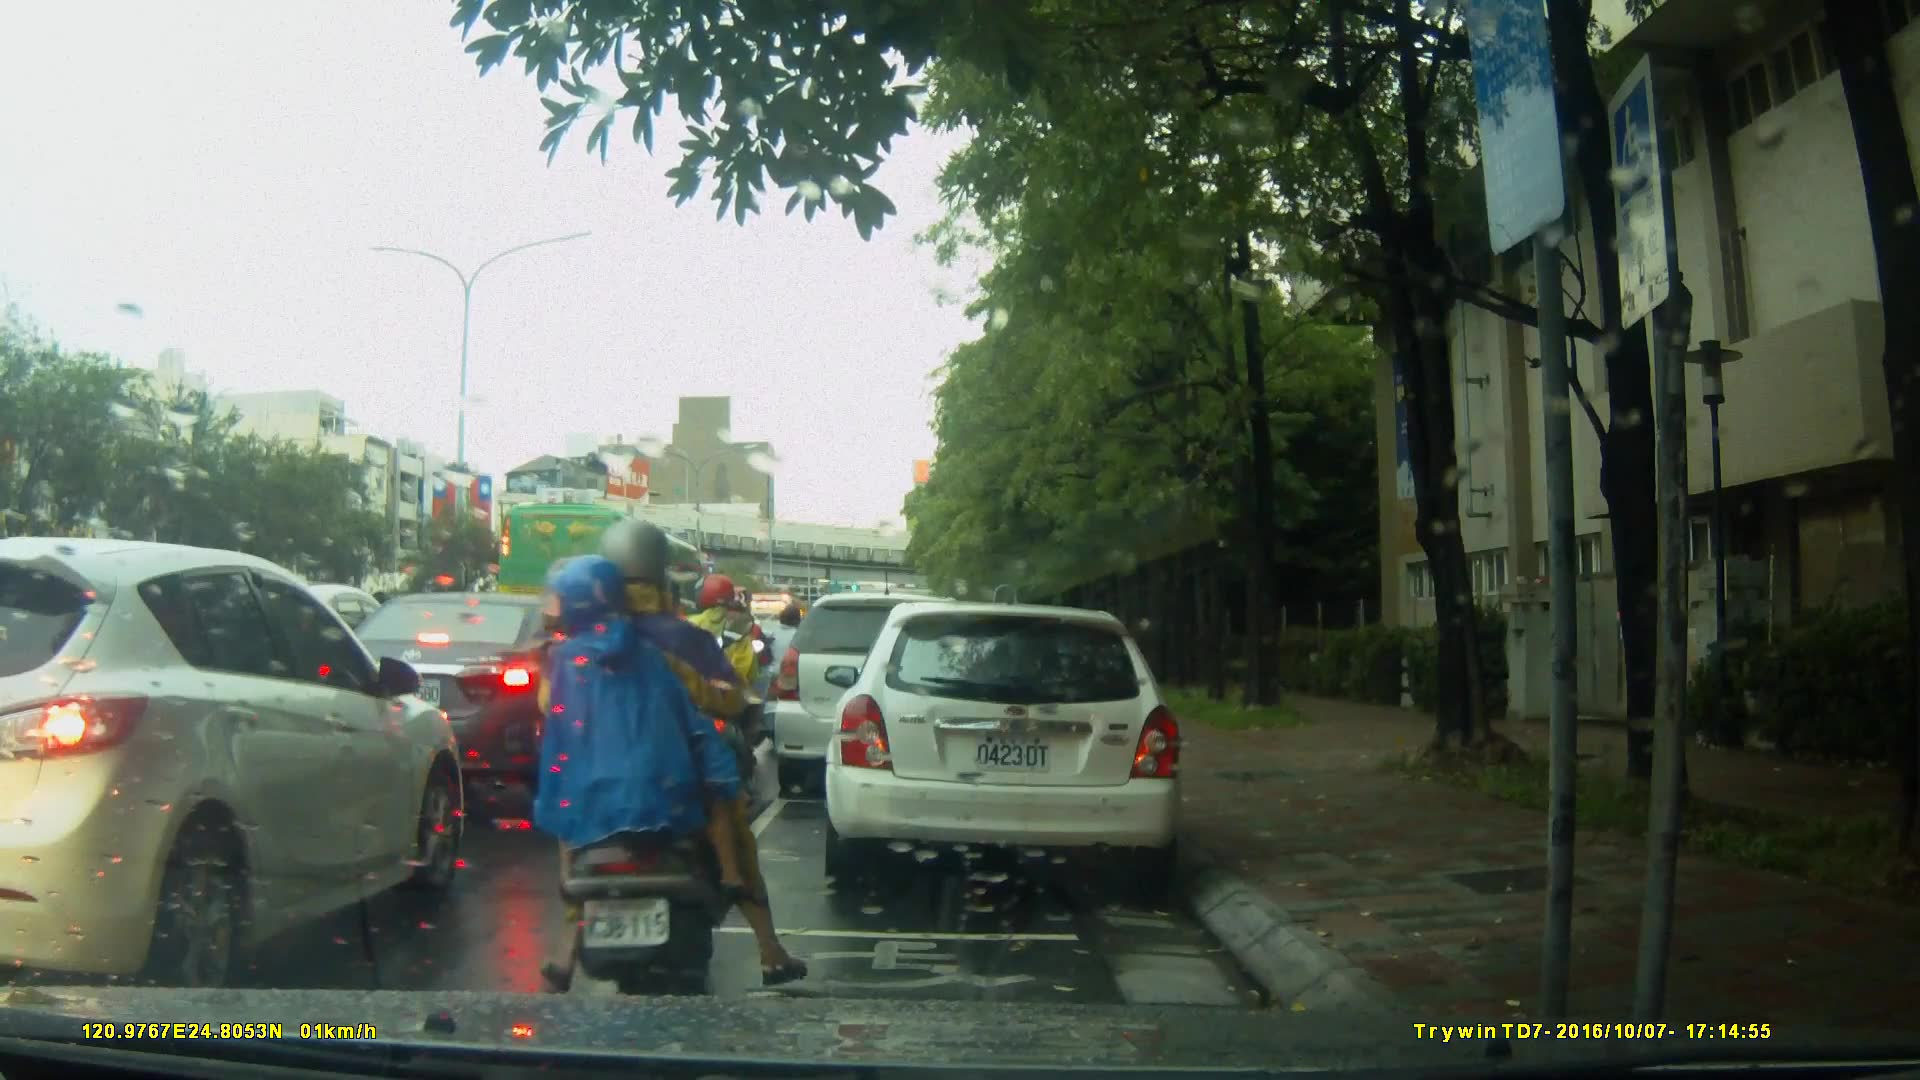rider: (509, 512, 820, 1011), (680, 572, 766, 808), (715, 592, 774, 751), (769, 598, 816, 729)
vehicle: (5, 536, 470, 988), (831, 592, 1196, 897), (315, 589, 629, 776), (770, 590, 999, 804), (498, 503, 713, 636)
